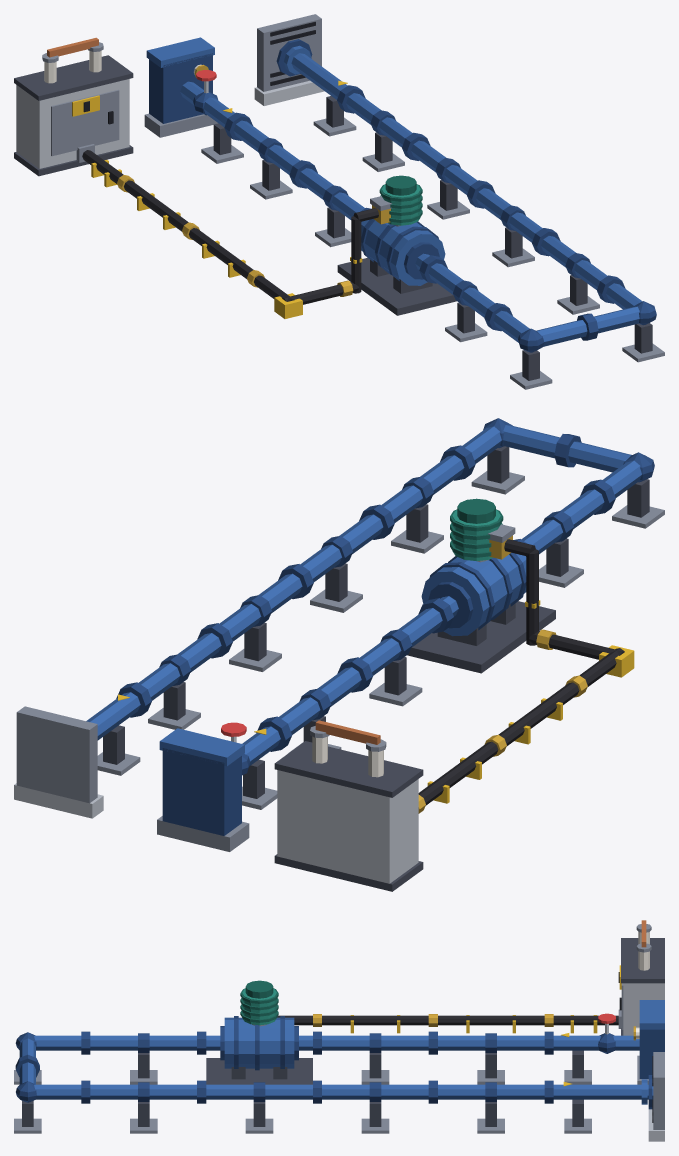
The model's file is hydro-line-preview.glb.
3 renders of one model, top to bottom at view 1: azimuth 30°, elevation 25°; view 2: azimuth 150°, elevation 25°; view 3: azimuth 270°, elevation 25°, orthographic. The views are drawn at different scales.
Visible parts, largest first — view 1: hydro-line-preview; view 2: hydro-line-preview; view 3: hydro-line-preview.
Boxes of the visible parts, x1,y1,x2,y2 form: hydro-line-preview: [14, 14, 664, 389]; hydro-line-preview: [14, 418, 664, 891]; hydro-line-preview: [14, 920, 664, 1141].
Size of the model in its own units: 2.7 by 0.94 by 5.62.
Materials: 1 (1 with a texture image).
